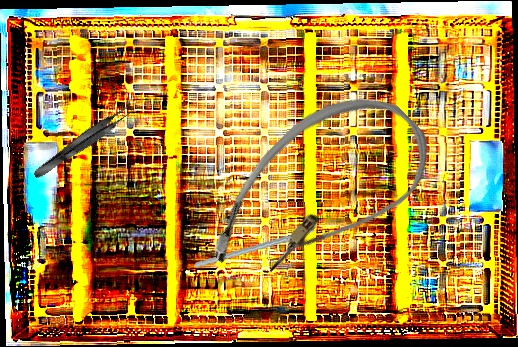Cannula: (189, 64, 448, 323)
Chopper: (194, 208, 319, 282)
Tissue Forceps: (29, 101, 136, 183)
